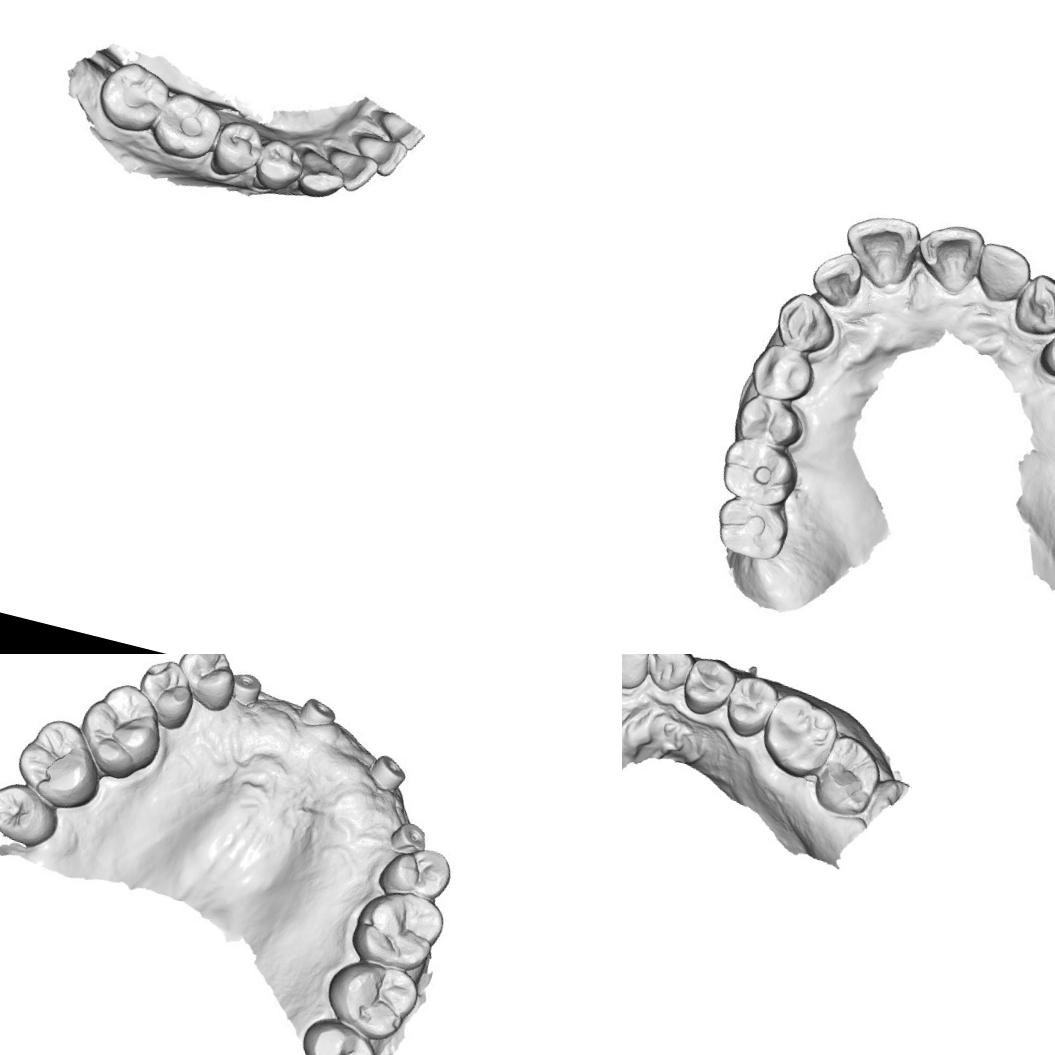canine: (769, 285, 839, 360), (1008, 266, 1055, 338), (294, 145, 350, 204), (639, 654, 697, 694)
implant: (358, 746, 414, 796), (293, 688, 344, 734), (386, 812, 435, 858), (224, 664, 267, 710)
incisor: (833, 206, 923, 296), (906, 212, 988, 298), (970, 238, 1032, 306), (806, 249, 869, 312), (318, 137, 382, 196), (348, 126, 410, 181), (622, 654, 654, 695)
molar: (68, 672, 174, 788), (346, 878, 454, 982), (314, 950, 426, 1048), (6, 710, 110, 815), (754, 688, 845, 784), (88, 54, 174, 141), (809, 730, 888, 822), (709, 492, 791, 568), (718, 437, 800, 510), (147, 89, 226, 164), (0, 775, 64, 850), (287, 1009, 384, 1055)
premolar: (371, 835, 456, 908), (128, 654, 201, 735), (717, 668, 783, 744), (167, 654, 245, 714), (734, 391, 806, 455), (205, 111, 270, 181), (676, 654, 740, 721), (751, 342, 812, 402), (250, 135, 308, 196), (1031, 317, 1055, 389)
